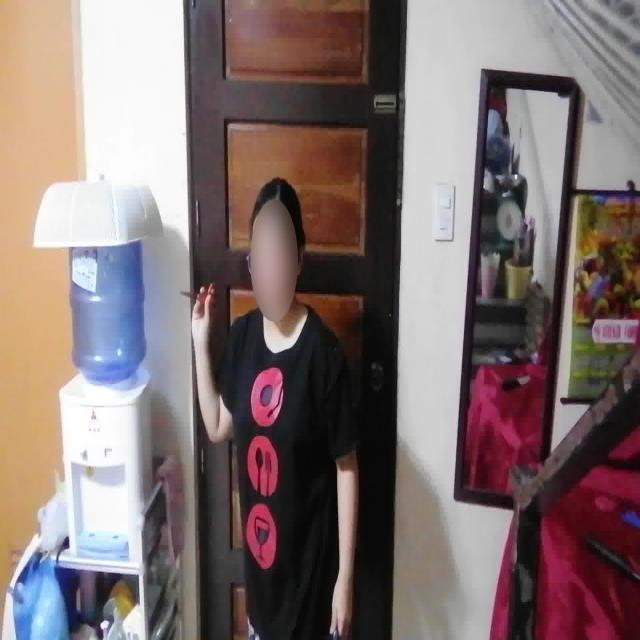scissor: (179, 281, 220, 319)
